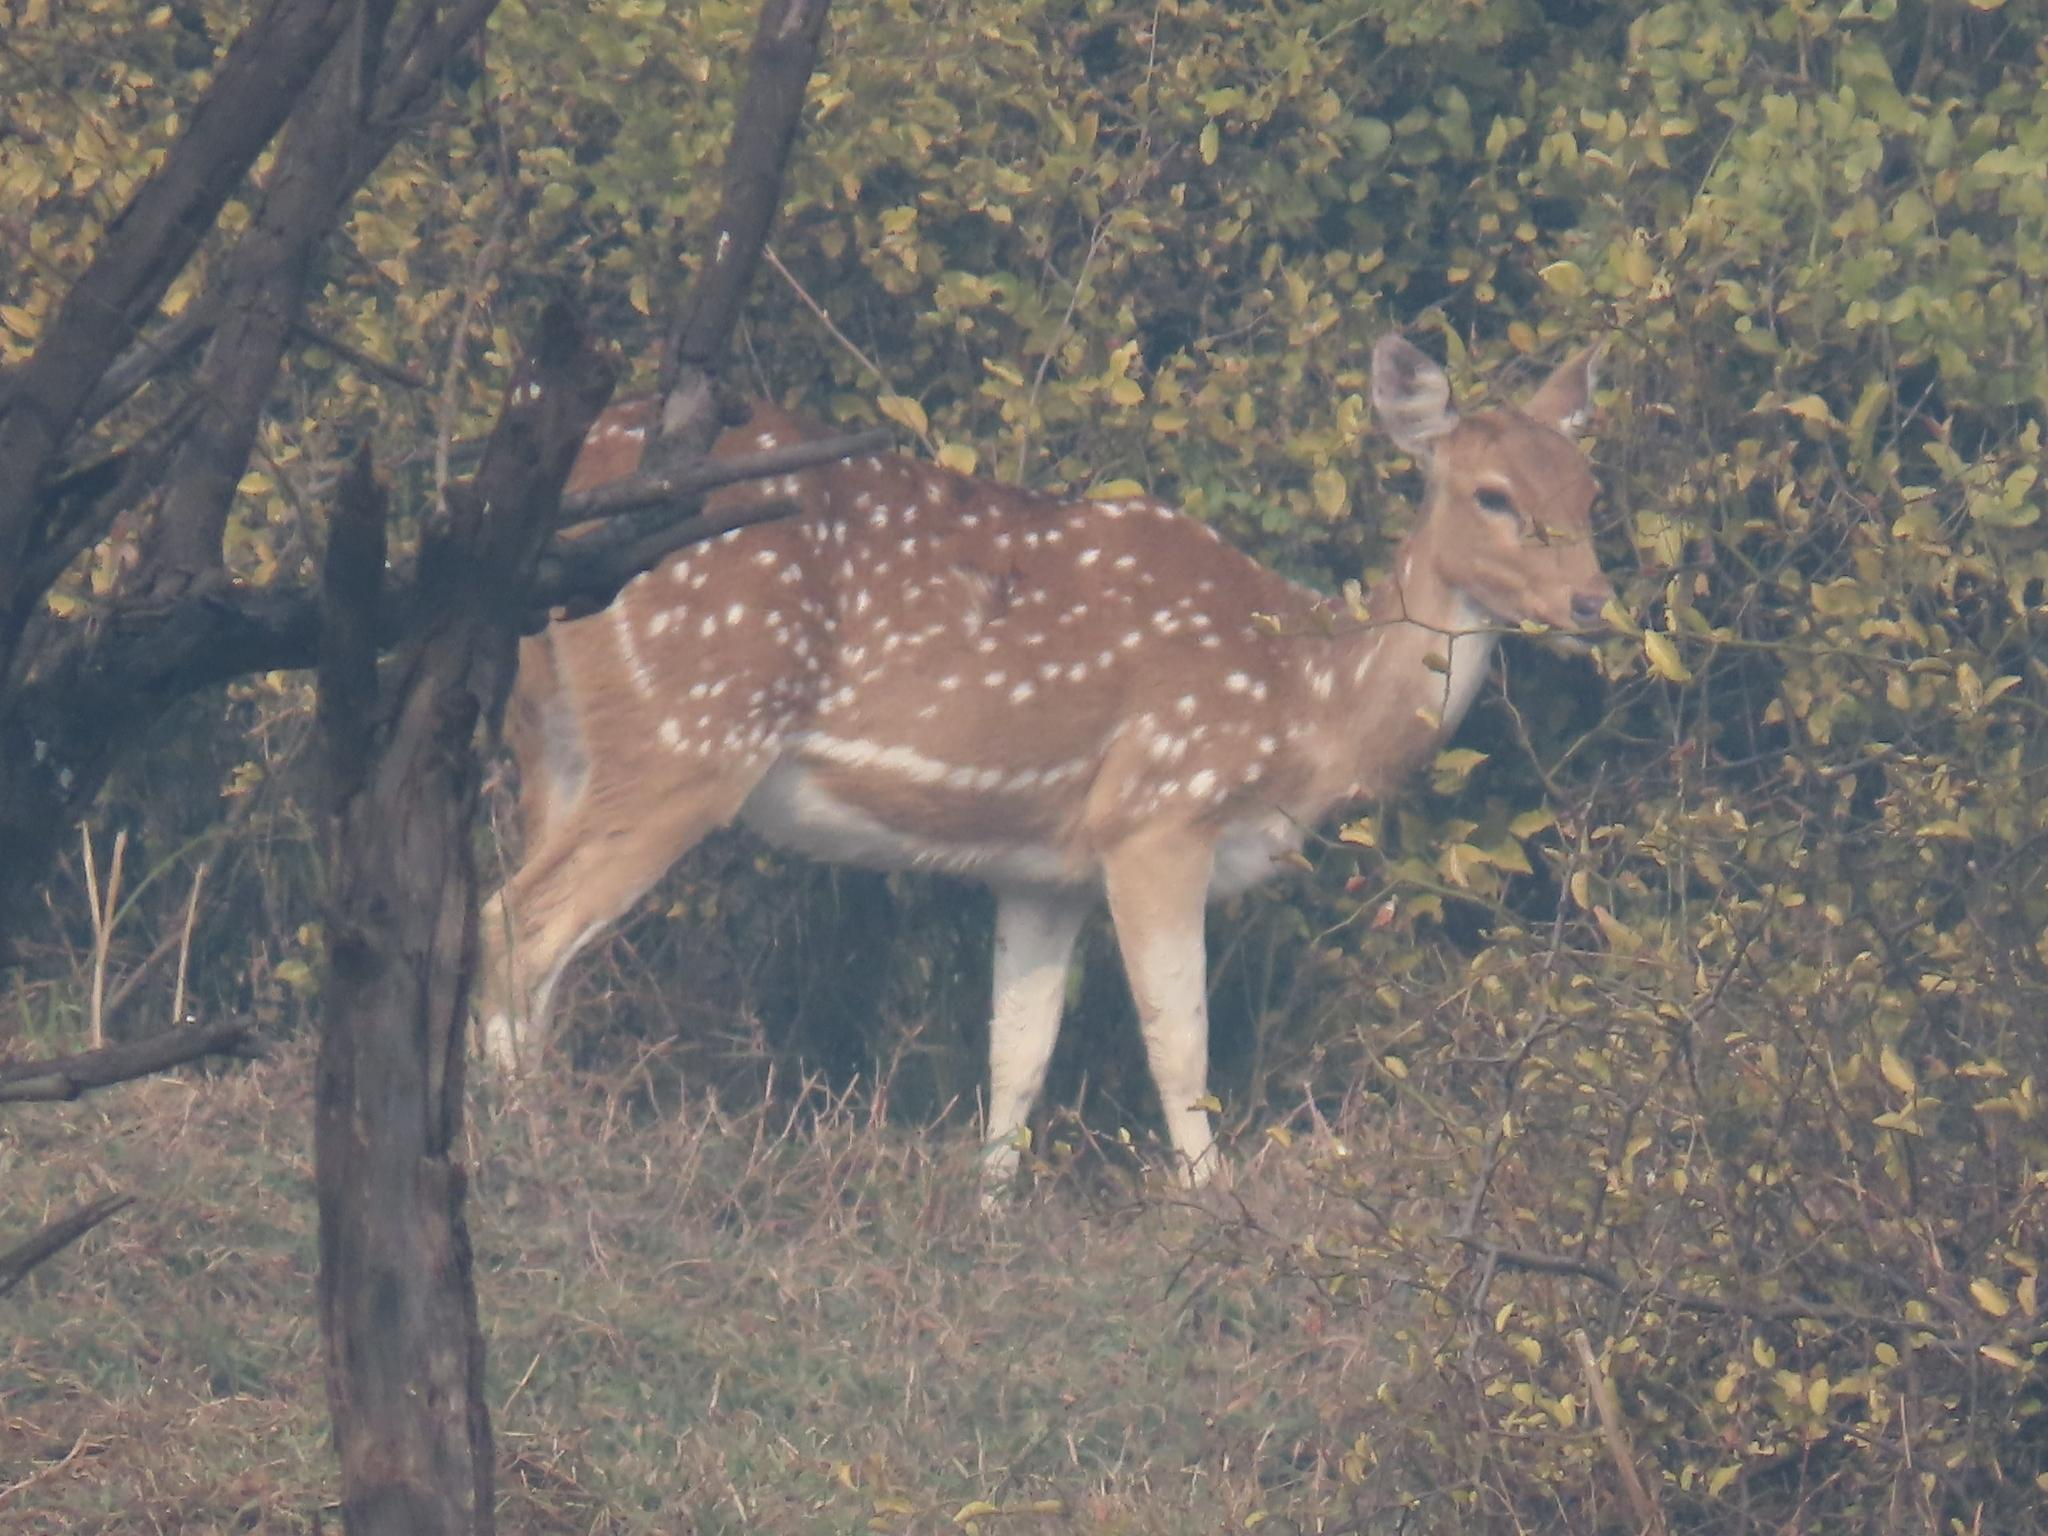Deer: (481, 334, 1609, 1179)
